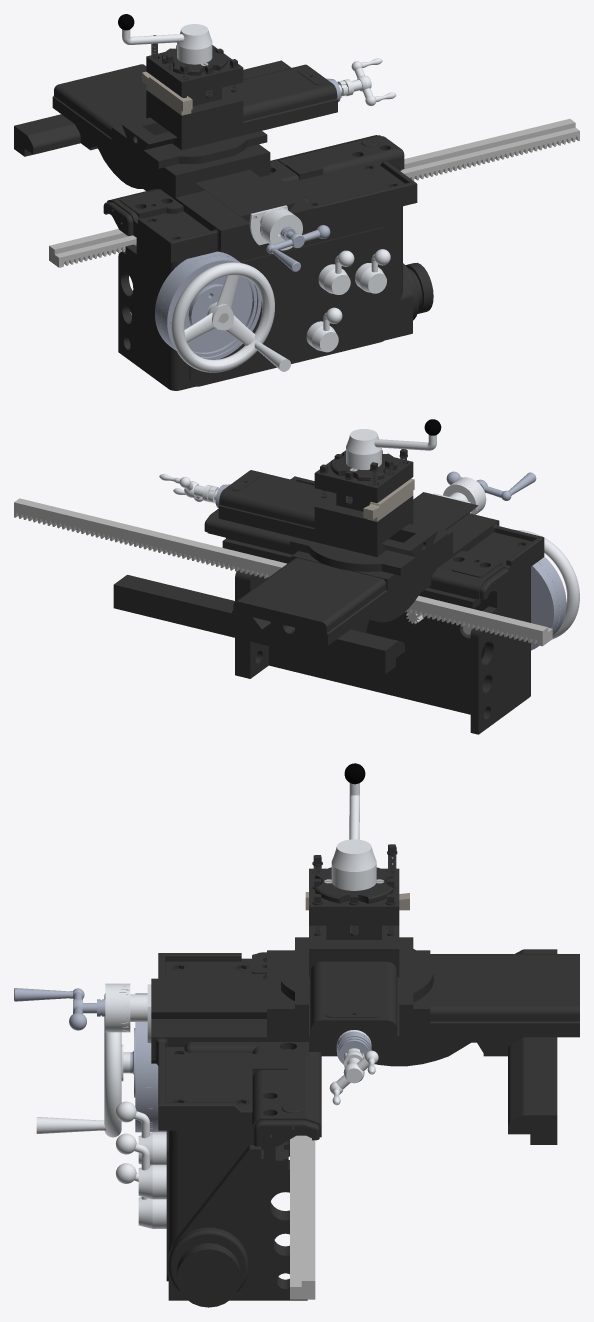
File: carriage.fbx
The picture shows the model from 3 angles, top to bottom: view 1: azimuth 30°, elevation 25°; view 2: azimuth 150°, elevation 25°; view 3: azimuth 270°, elevation 25°; orthographic projection. The views are drawn at different scales.
Visible parts, largest first — view 1: cariage, slide way, slide f c m, u s w d c, rack, h b c b a ar, u ta d reg ll a, t p c, c d c t, c h z f b (×3), u h t p, s b b c m l t b (+8 smaller); view 2: slide way, cariage, slide f c m, rack, u s w d c, t p c, c d c t, u h t p, e l k e a wal ll a, closer of side, h b c b a ar, s u sl w (+7 smaller); view 3: slide way, cariage, slide f c m, u s w d c, t p c, rack, c h z f b (×3), c d c t, u h t p, h b c b a ar, u ta d reg ll a, s b b c m l t b (+5 smaller).
Part boxes in pixels (x1,y1,x2,y2): cariage: (118, 206, 433, 390); slide way: (14, 60, 417, 262); slide f c m: (52, 64, 270, 197); u s w d c: (146, 64, 337, 150); rack: (49, 118, 579, 267); h b c b a ar: (171, 262, 290, 372); u ta d reg ll a: (160, 255, 261, 359); t p c: (146, 45, 243, 125); c d c t: (112, 112, 267, 168); c h z f b (×3): (306, 249, 390, 352); u h t p: (118, 14, 212, 64); s b b c m l t b: (266, 225, 330, 271); slide way: (113, 476, 544, 674); cariage: (235, 567, 530, 734); slide f c m: (232, 524, 452, 645); rack: (14, 498, 552, 646); u s w d c: (218, 470, 413, 556); t p c: (314, 450, 413, 531); c d c t: (290, 520, 447, 575); u h t p: (346, 419, 441, 469); e l k e a wal ll a: (531, 562, 559, 650); closer of side: (222, 537, 480, 608); h b c b a ar: (516, 530, 579, 639); s u sl w: (159, 474, 218, 503); slide way: (151, 949, 557, 1144); cariage: (166, 1130, 307, 1307); slide f c m: (267, 950, 579, 1037); u s w d c: (309, 961, 399, 1051); t p c: (309, 868, 399, 961); rack: (290, 1135, 315, 1299); c h z f b (×3): (115, 1101, 166, 1228); c d c t: (281, 937, 433, 1014); u h t p: (331, 763, 376, 890); h b c b a ar: (36, 993, 130, 1137); u ta d reg ll a: (135, 993, 152, 1132); s b b c m l t b: (14, 988, 105, 1030).
Size of the model in its own units: 110 by 64.04 by 81.38.
